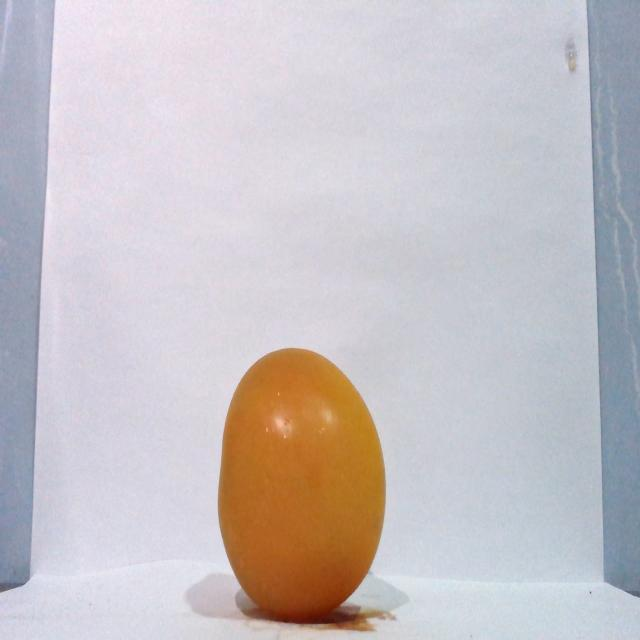Red: (216, 345, 387, 621)
